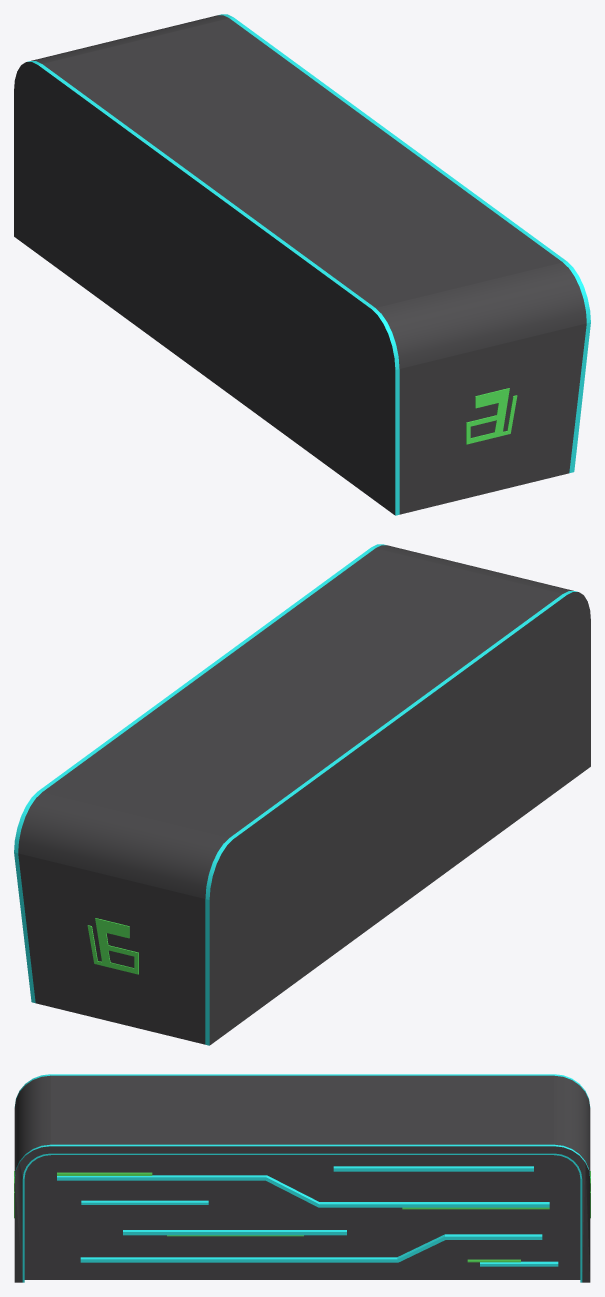
The model's file is Tron4.fbx.
3 views of the same model, one above another, from view 1: azimuth 30°, elevation 25°; view 2: azimuth 150°, elevation 25°; view 3: azimuth 270°, elevation 25° (orthographic). The views are drawn at different scales.
Visible parts, largest first — view 1: Group1, Group3; view 2: Group1, Group4; view 3: Group1, Group2.
Boxes of the visible parts, box(x1,y1,x2,y2) form: Group1: box(14, 14, 590, 515); Group3: box(466, 388, 517, 444); Group1: box(14, 544, 590, 1045); Group4: box(87, 918, 138, 974); Group1: box(14, 1074, 590, 1282); Group2: box(22, 1153, 582, 1282).
Bounding box in the file's own units: 4706 × 4349 × 15930.
